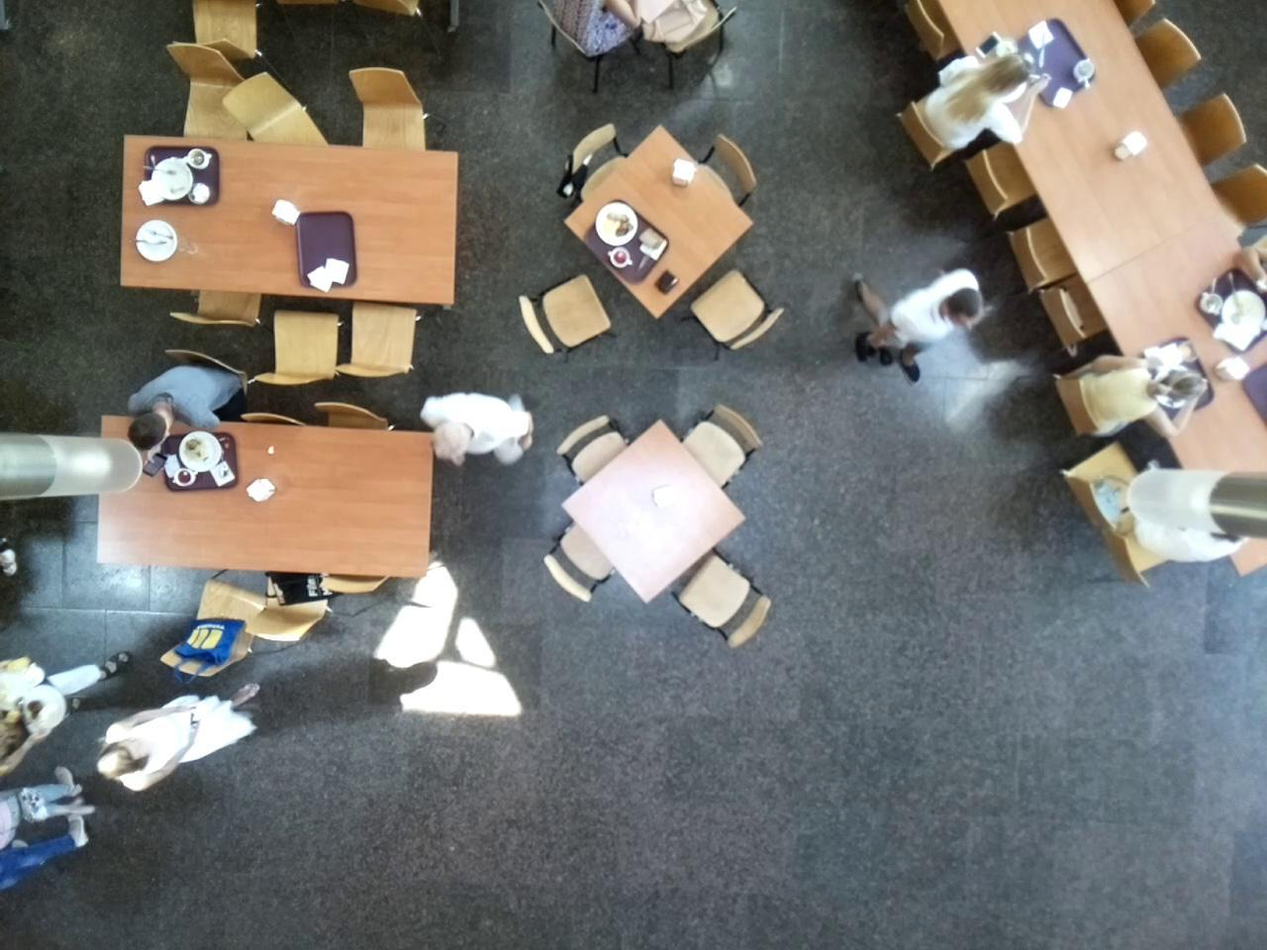person: (829, 240, 1052, 453), (897, 23, 1045, 200), (120, 322, 260, 484), (81, 689, 268, 804), (417, 356, 548, 515), (1060, 322, 1194, 459), (1, 633, 109, 777)
